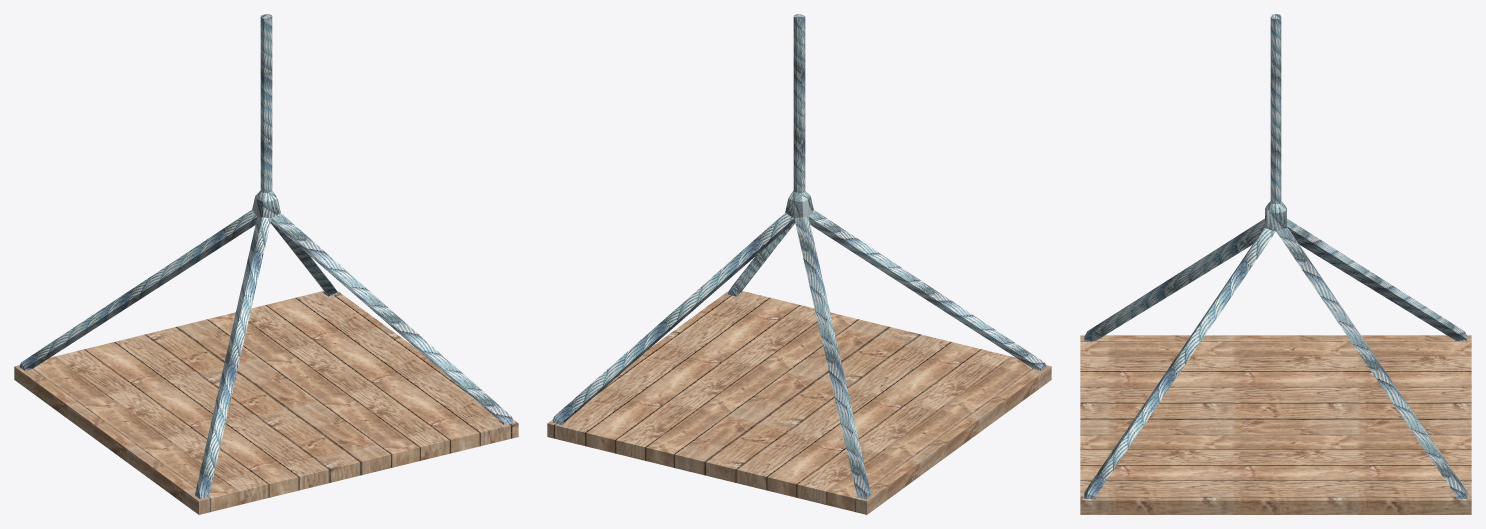
Rendered from lift.glb.
3 views of the same model, side by side, from view 1: azimuth 30°, elevation 25°; view 2: azimuth 150°, elevation 25°; view 3: azimuth 270°, elevation 25° (orthographic). The views are drawn at different scales.
Visible parts, largest first — view 1: Cube.014; view 2: Cube.014; view 3: Cube.014.
Part boxes in pixels (box(x1,y1,x2,y2)): Cube.014: box(14, 14, 518, 514); Cube.014: box(547, 14, 1051, 514); Cube.014: box(1080, 14, 1471, 514).
Size of the model in its own units: 2 by 2.34 by 2.
1 material, 1 textured.
